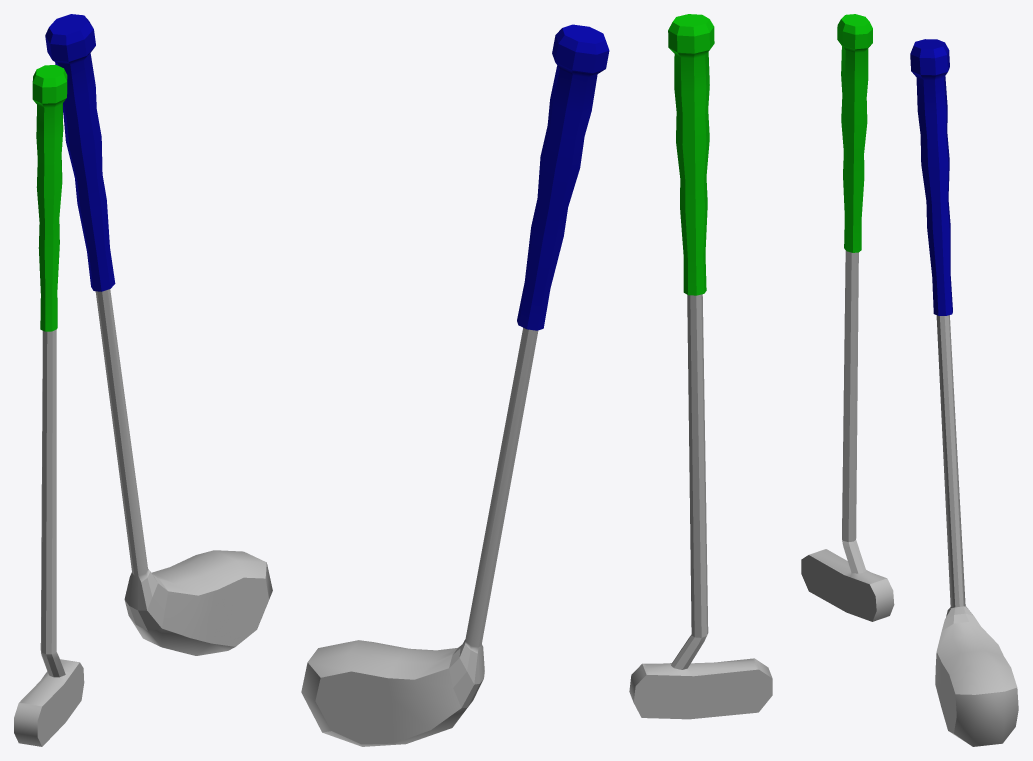
The picture shows the model from 3 angles, left to right: view 1: azimuth 30°, elevation 25°; view 2: azimuth 150°, elevation 25°; view 3: azimuth 270°, elevation 25°; orthographic projection. The views are drawn at different scales.
Parts seen in each view (by area): view 1: golf_club_01, golf_club_02; view 2: golf_club_01, golf_club_02; view 3: golf_club_01, golf_club_02.
Boxes of the visible parts, box(x1,y1,x2,y2) form: golf_club_01: box(45, 14, 272, 655); golf_club_02: box(14, 65, 84, 746); golf_club_01: box(301, 24, 609, 746); golf_club_02: box(629, 14, 772, 719); golf_club_01: box(910, 39, 1018, 746); golf_club_02: box(801, 14, 894, 621).
Bounding box in the file's own units: 0.1991 × 0.3786 × 0.1202.
